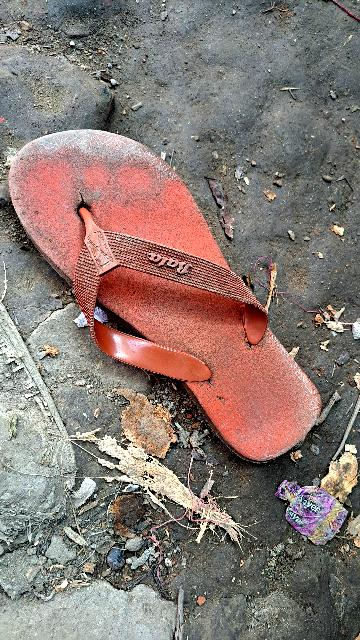sandal: (0, 87, 360, 479)
